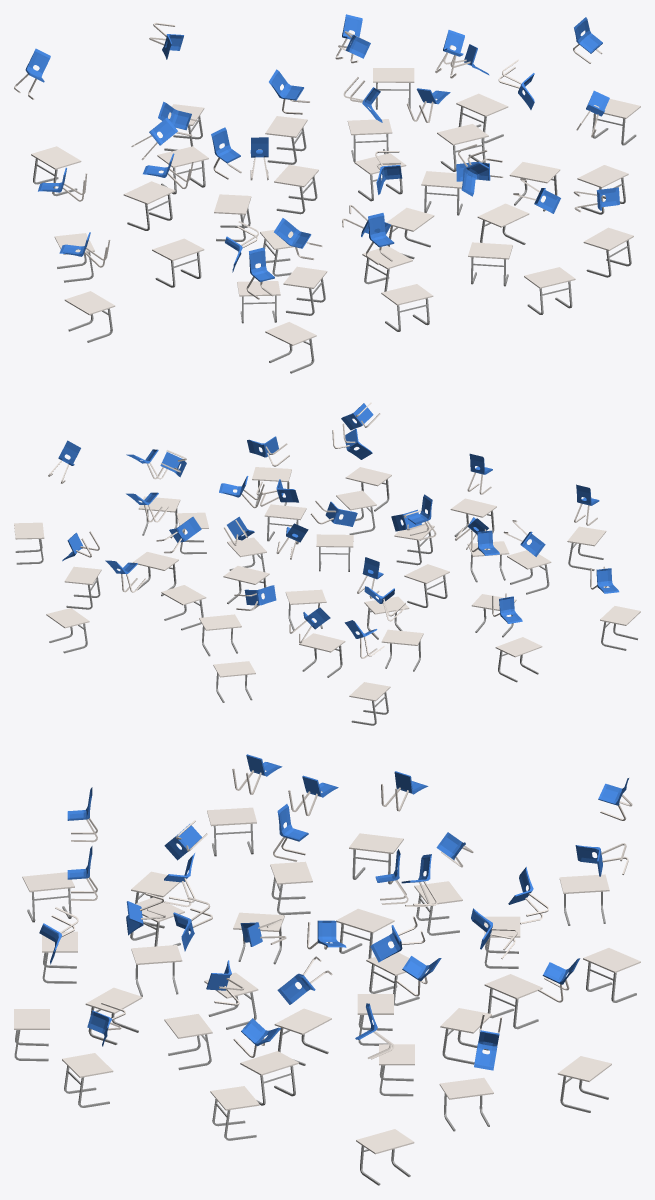
Rendered from chair.glb.
The picture shows the model from 3 angles, top to bottom: view 1: azimuth 30°, elevation 25°; view 2: azimuth 150°, elevation 25°; view 3: azimuth 270°, elevation 25°; orthographic projection. The views are drawn at different scales.
Visible parts, largest first — view 1: Cube.073, Cube.079, Cube.139, Cube.133, Cube.019, Cube.103, Cube.169, Cube.121, Cube.151, Cube.043, Cube.115, Cube.061 (+21 smaller); view 2: Cube.004, Cube.145, Cube.157, Cube.061, Cube.091, Cube.127, Cube.012, Cube.097, Cube.103, Cube.109, Cube.085, Cube.115 (+13 smaller); view 3: Cube.169, Cube.175, Cube.010, Cube.025, Cube.151, Cube.163, Cube.037, Cube.091, Cube.073, Cube.157, Cube.079, Cube.121 (+17 smaller).
Part boxes in pixels (left/top/right/bottom): Cube.073: left=477, top=203, right=529, bottom=227; Cube.079: left=509, top=162, right=560, bottom=183; Cube.139: left=64, top=291, right=115, bottom=315; Cube.133: left=265, top=322, right=316, bottom=345; Cube.019: left=386, top=207, right=434, bottom=231; Cube.103: left=123, top=181, right=175, bottom=204; Cube.169: left=456, top=93, right=508, bottom=116; Cube.121: left=577, top=165, right=628, bottom=188; Cube.151: left=31, top=146, right=81, bottom=169; Cube.043: left=152, top=238, right=204, bottom=261; Cube.115: left=583, top=227, right=633, bottom=250; Cube.061: left=381, top=284, right=433, bottom=305; Cube.004: left=223, top=566, right=269, bottom=584; Cube.145: left=495, top=637, right=542, bottom=657; Cube.157: left=213, top=661, right=255, bottom=677; Cube.061: left=450, top=498, right=496, bottom=517; Cube.091: left=199, top=614, right=241, bottom=630; Cube.127: left=345, top=467, right=391, bottom=486; Cube.012: left=285, top=589, right=326, bottom=604; Cube.097: left=299, top=633, right=345, bottom=652; Cube.103: left=381, top=629, right=423, bottom=645; Cube.109: left=161, top=585, right=206, bottom=605; Cube.085: left=132, top=552, right=178, bottom=570; Cube.115: left=252, top=467, right=291, bottom=482; Cube.169: left=439, top=1077, right=493, bottom=1099; Cube.175: left=356, top=1129, right=414, bottom=1154; Cube.010: left=274, top=1008, right=331, bottom=1034; Cube.025: left=131, top=945, right=182, bottom=964; Cube.151: left=559, top=874, right=609, bottom=893; Cube.163: left=557, top=1056, right=611, bottom=1081; Cube.037: left=336, top=908, right=394, bottom=933; Cube.091: left=484, top=974, right=542, bottom=999; Cube.073: left=164, top=1014, right=212, bottom=1038; Cube.157: left=583, top=948, right=640, bottom=972; Cube.079: left=240, top=1051, right=298, bottom=1075; Cube.121: left=210, top=1086, right=259, bottom=1110.
Size of what is drawn, in the model's own units: 116 by 23.99 by 89.36.
